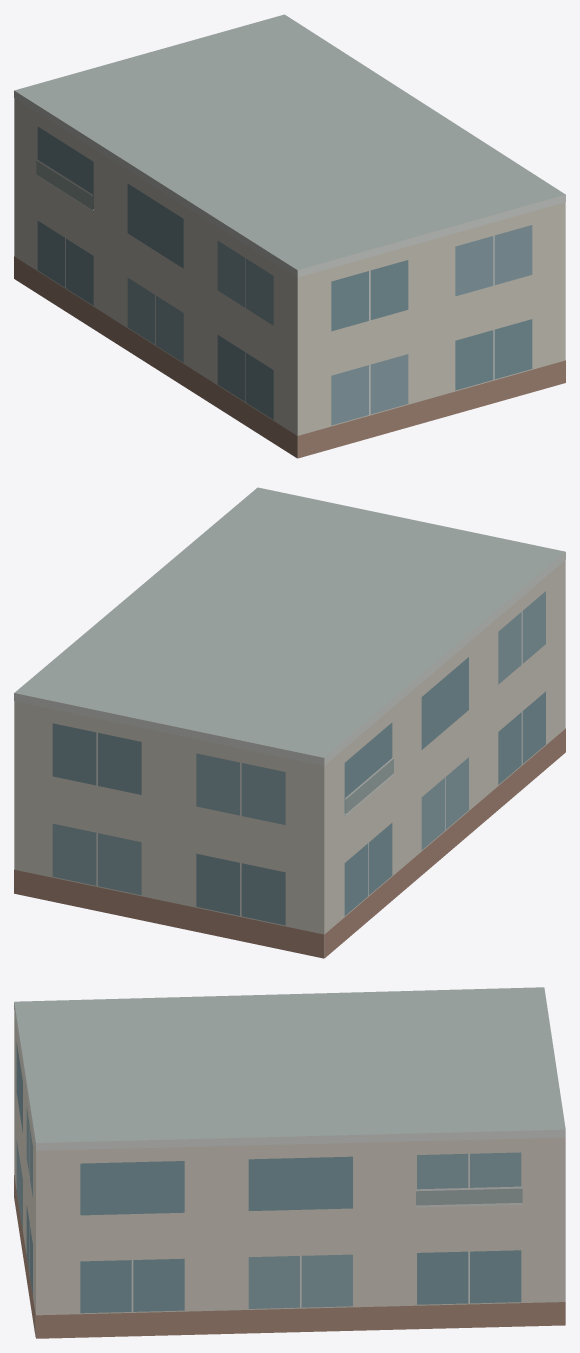
The model's file is survey-upis-32879151.glb.
The picture shows the model from 3 angles, top to bottom: view 1: azimuth 30°, elevation 25°; view 2: azimuth 150°, elevation 25°; view 3: azimuth 270°, elevation 25°; orthographic projection. The views are drawn at different scales.
Visible parts, largest first — view 1: survey-upis-32879151.tmp; view 2: survey-upis-32879151.tmp; view 3: survey-upis-32879151.tmp.
Boxes of the visible parts, left/top/right/bottom form: survey-upis-32879151.tmp: left=14, top=14, right=565, bottom=458; survey-upis-32879151.tmp: left=14, top=487, right=565, bottom=958; survey-upis-32879151.tmp: left=14, top=987, right=565, bottom=1338.
Size of the model in its own units: 10.42 by 6.1 by 15.59.
